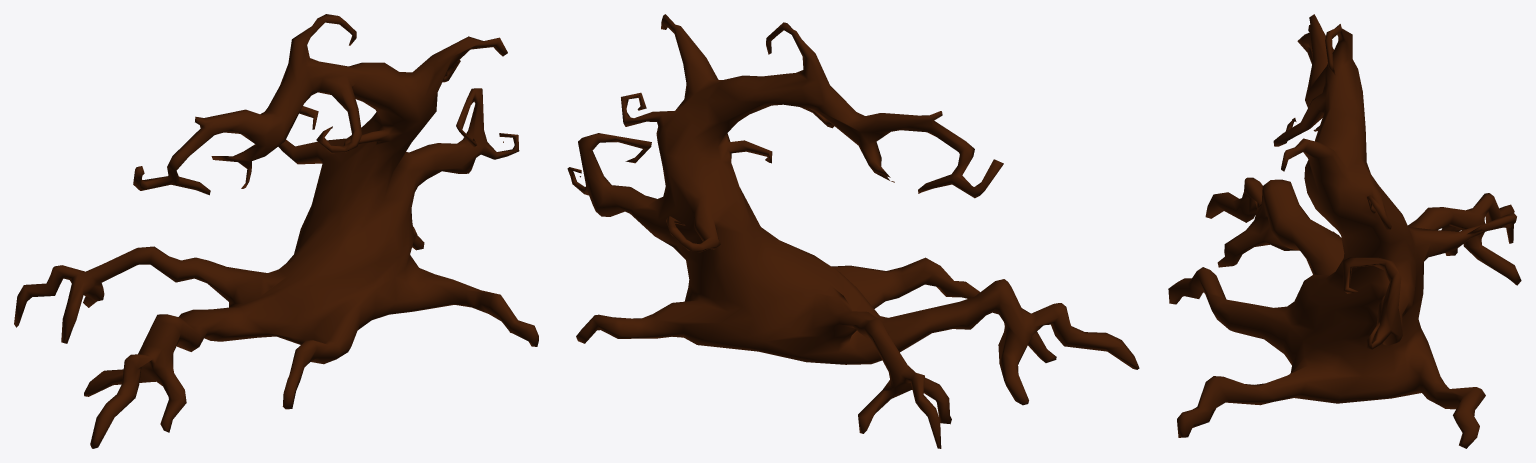
File: Tree_2k.fbx
3 views of the same model, side by side, from view 1: azimuth 30°, elevation 25°; view 2: azimuth 150°, elevation 25°; view 3: azimuth 270°, elevation 25° (orthographic). The views are drawn at different scales.
Visible parts, largest first — view 1: Tree 2k; view 2: Tree 2k; view 3: Tree 2k.
Part boxes in pixels (box(x1,y1,x2,y2)): Tree 2k: box(14, 14, 538, 448); Tree 2k: box(567, 14, 1139, 448); Tree 2k: box(1168, 14, 1521, 448).
Bounding box in the file's own units: 1117 × 692 × 625.
